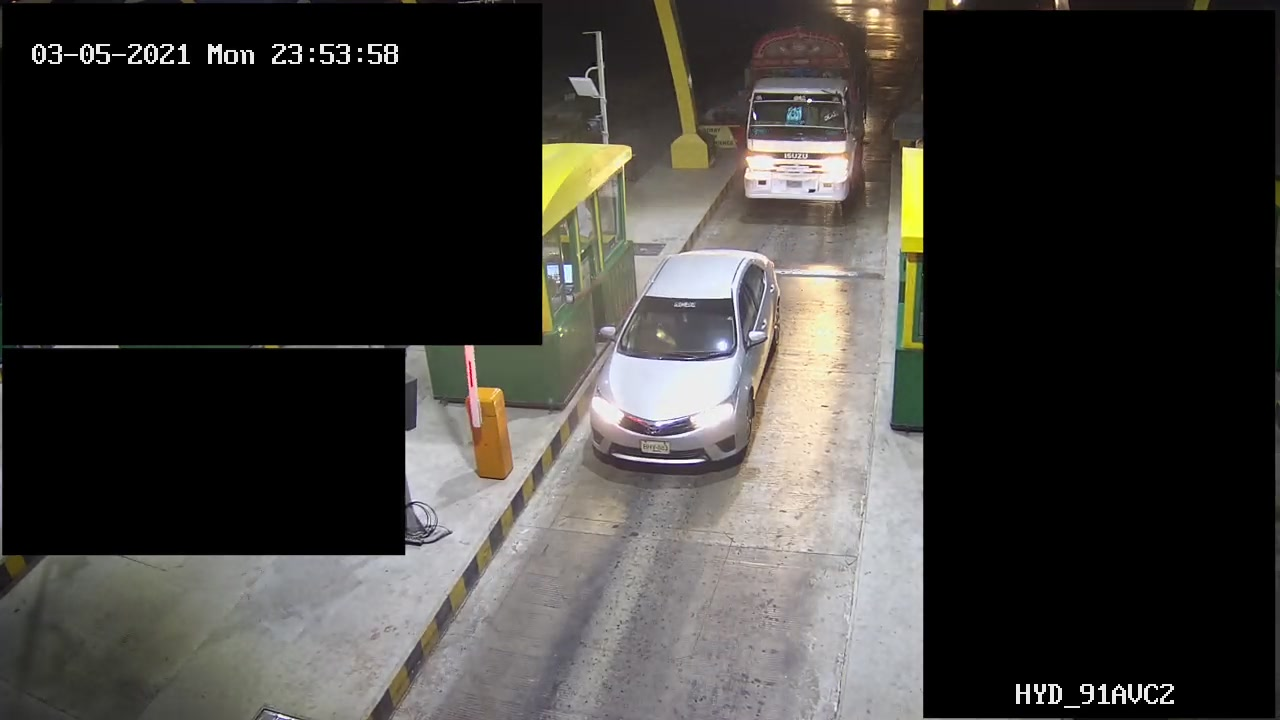F1: (579, 242, 783, 487)
